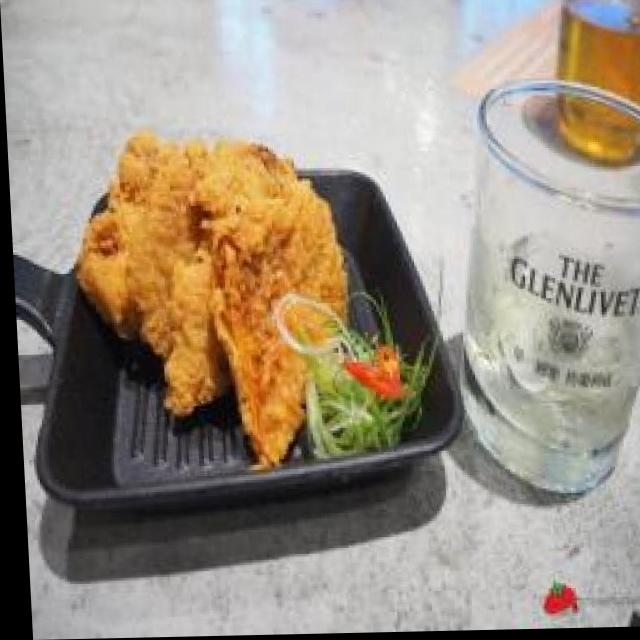fried_chicken: (70, 119, 347, 467)
